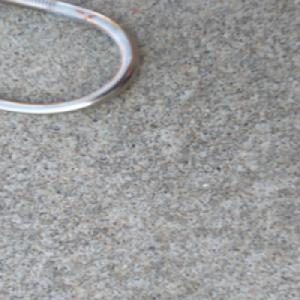ClampPart: (0, 0, 144, 117)
